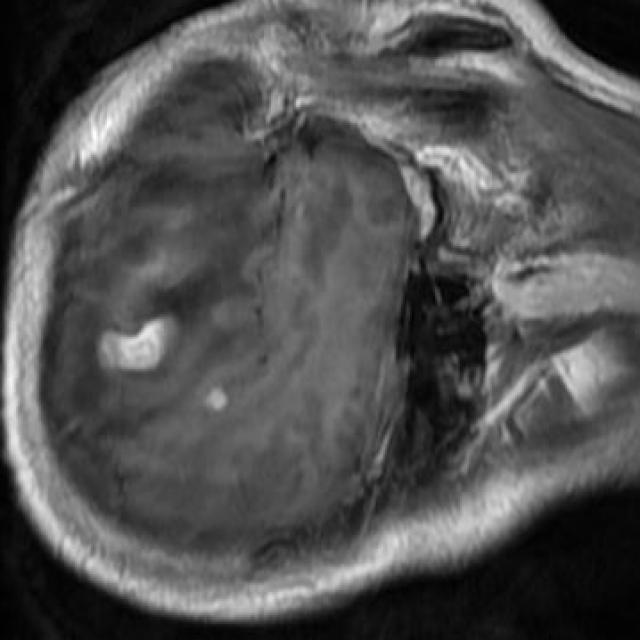glioma: (100, 316, 176, 369)
